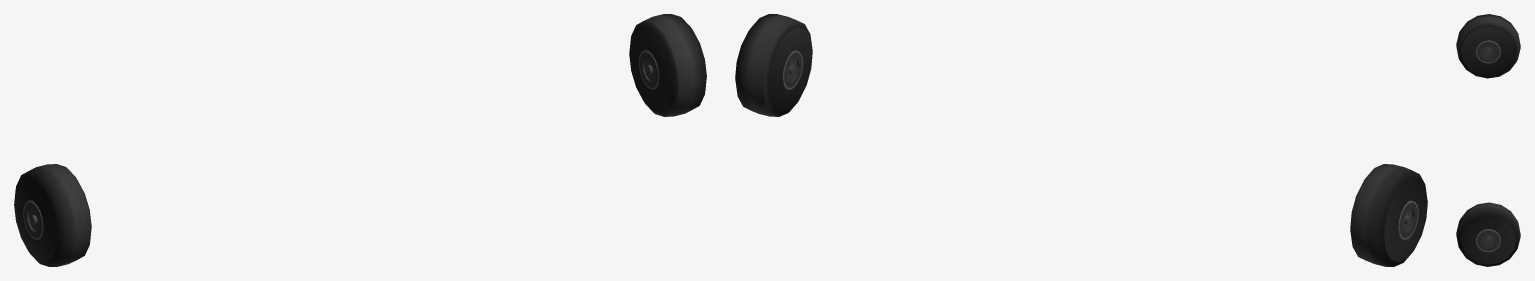
File: gear.fbx
3 renders of one model, left to right at view 1: azimuth 30°, elevation 25°; view 2: azimuth 150°, elevation 25°; view 3: azimuth 270°, elevation 25°, orthographic. The views are drawn at different scales.
Visible parts, largest first — view 1: gear_wheel, gear_wheel.001; view 2: gear_wheel, gear_wheel.001; view 3: gear_wheel, gear_wheel.001.
Part boxes in pixels (<box>): gear_wheel: <box>629,14,706,116</box>; gear_wheel.001: <box>14,164,91,266</box>; gear_wheel: <box>735,14,812,116</box>; gear_wheel.001: <box>1350,164,1427,266</box>; gear_wheel: <box>1456,202,1520,266</box>; gear_wheel.001: <box>1456,14,1520,78</box>.
Size of the model in its own units: 366 by 49.4 by 49.4.
